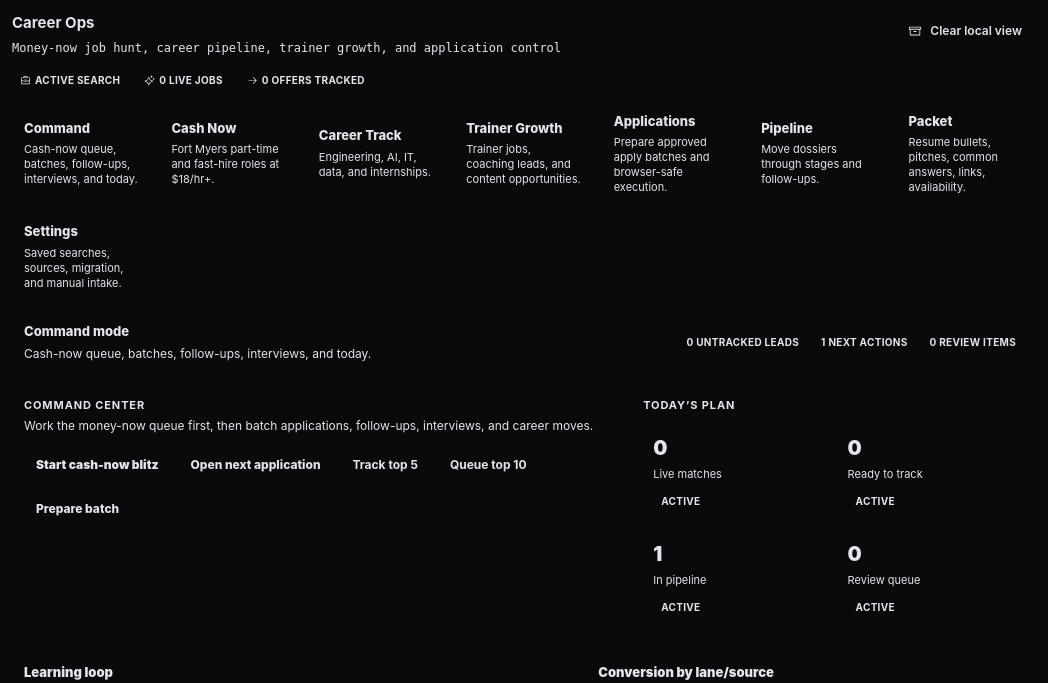
Test: CareerOpsPage › loads saved application history from the backend
Click the button "Applications".
click(671, 153)  # box left=602, top=102, right=741, bottom=204
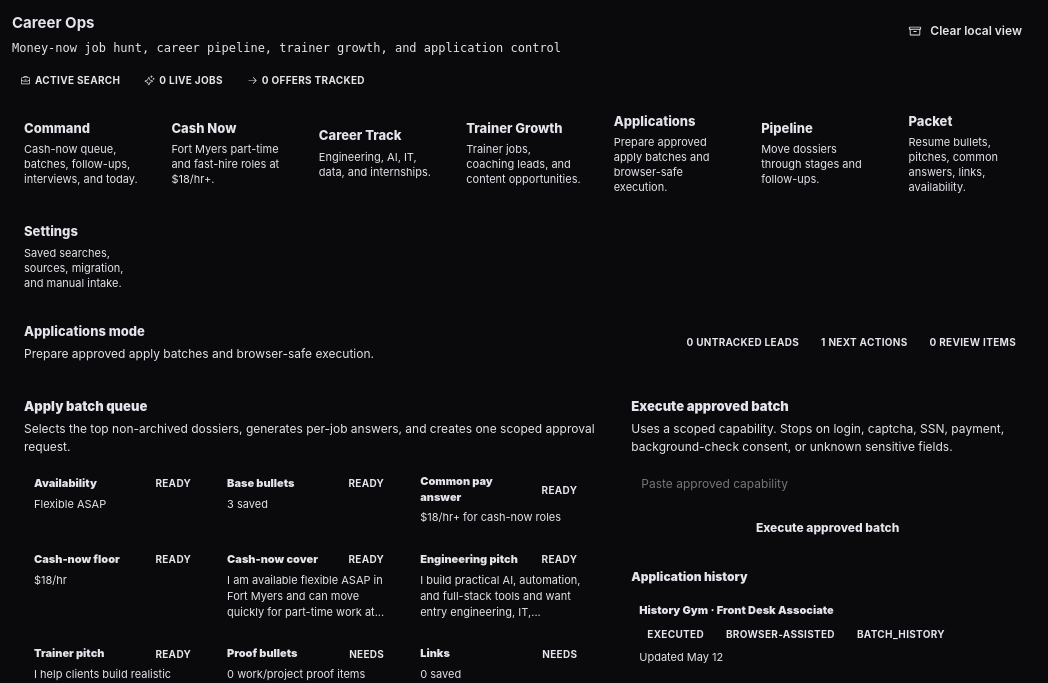
Result: the text "History Gym · Front Desk Associate" is shown at left=639, top=603, right=834, bottom=617
Result: the text "executed" is shown at left=647, top=628, right=704, bottom=640
Result: the text "batch_history" is shown at left=857, top=628, right=945, bottom=640
